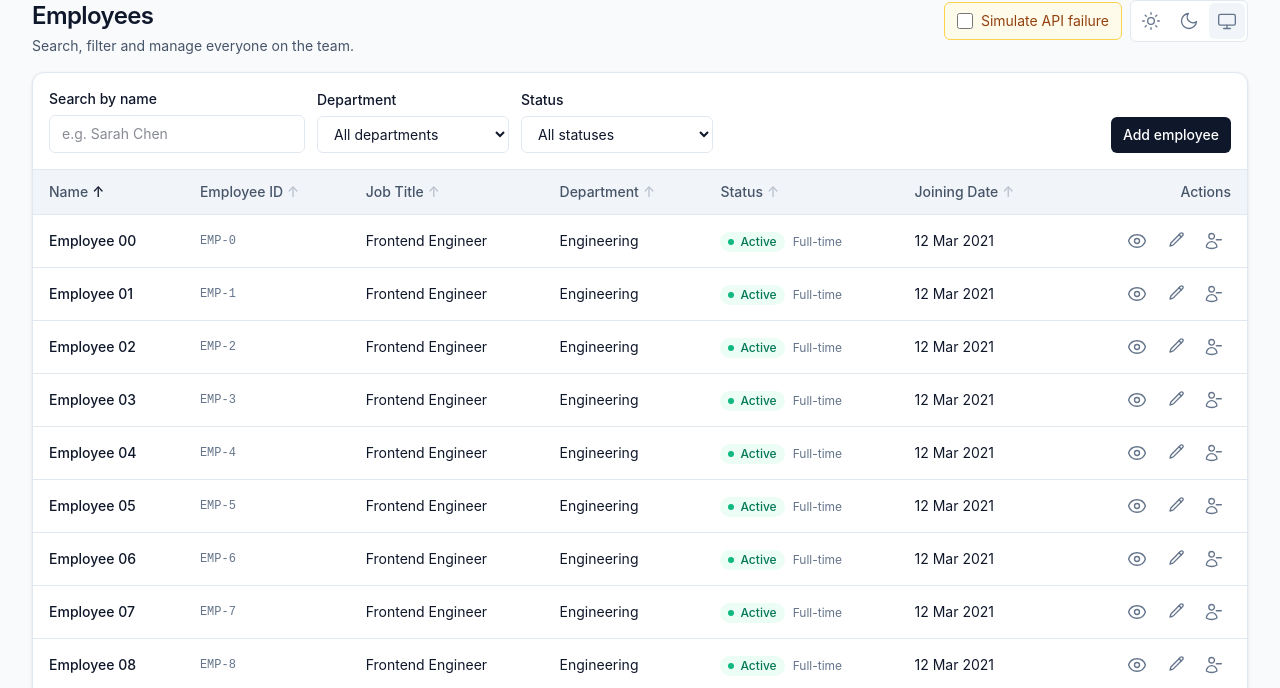
Test: a page beyond the end of the result set › never leaves the UI on an empty last page after a deactivation
This screenshot has width=1280, height=688.
Select "Active" in the dropdown labelled "Status" at (617, 134), box x1=521 y1=116 x2=713 y2=153
(page scrolled)
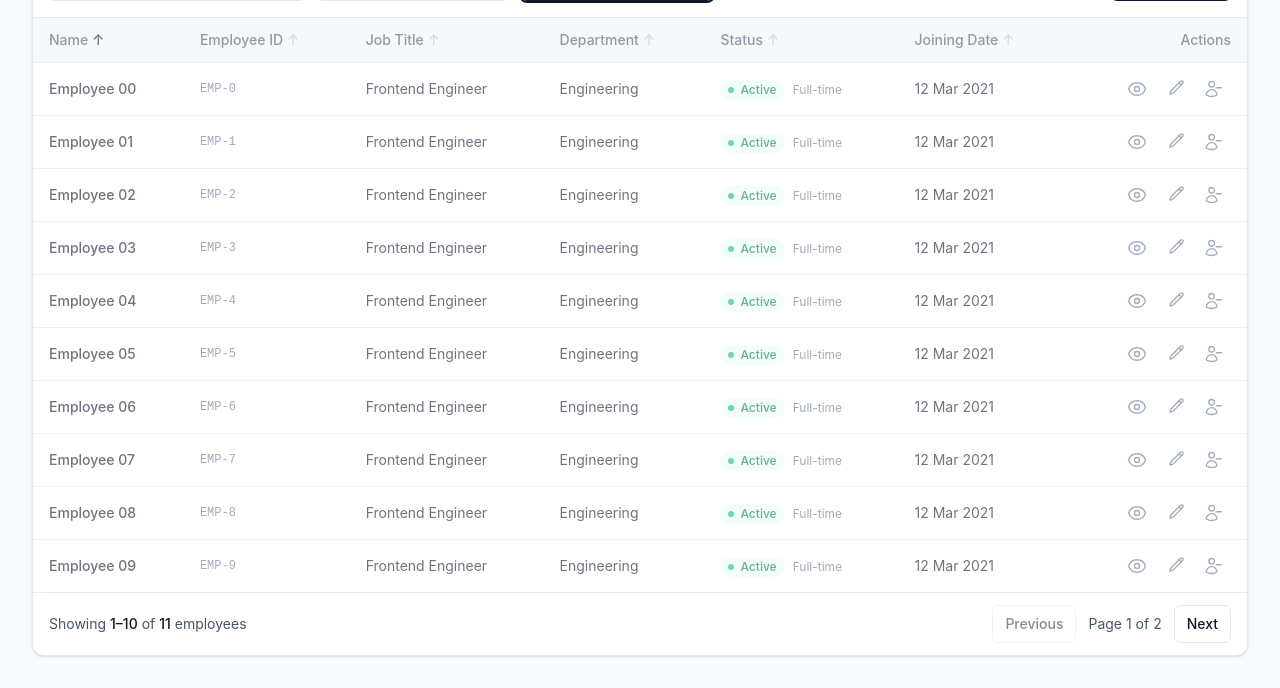
Click the button "Next" at (1202, 624), box x1=1174 y1=605 x2=1231 y2=643
(page scrolled)
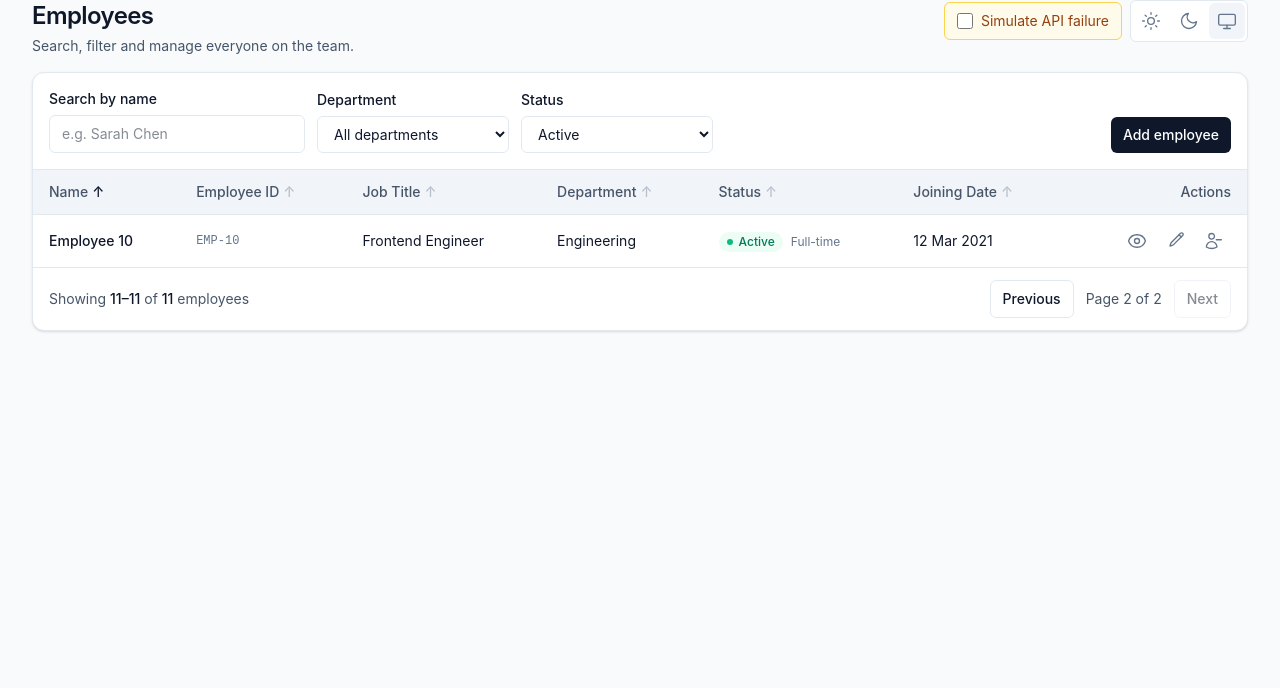
Result: the column heading "Employee 10" is shown at x1=33 y1=215 x2=180 y2=267
Click the button named "Deactivate Employee 10" at (1213, 241), box x1=1195 y1=223 x2=1231 y2=259
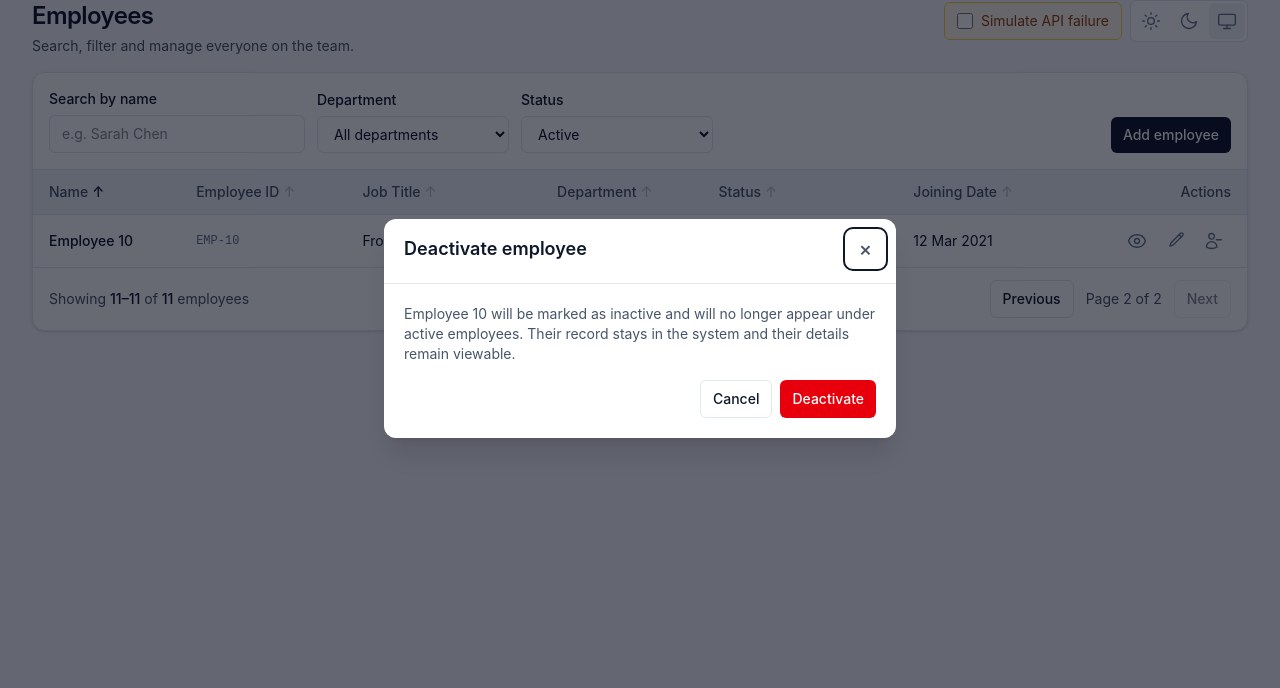
Click the button "Deactivate" at (828, 398), box x1=780 y1=380 x2=876 y2=418
(page scrolled)
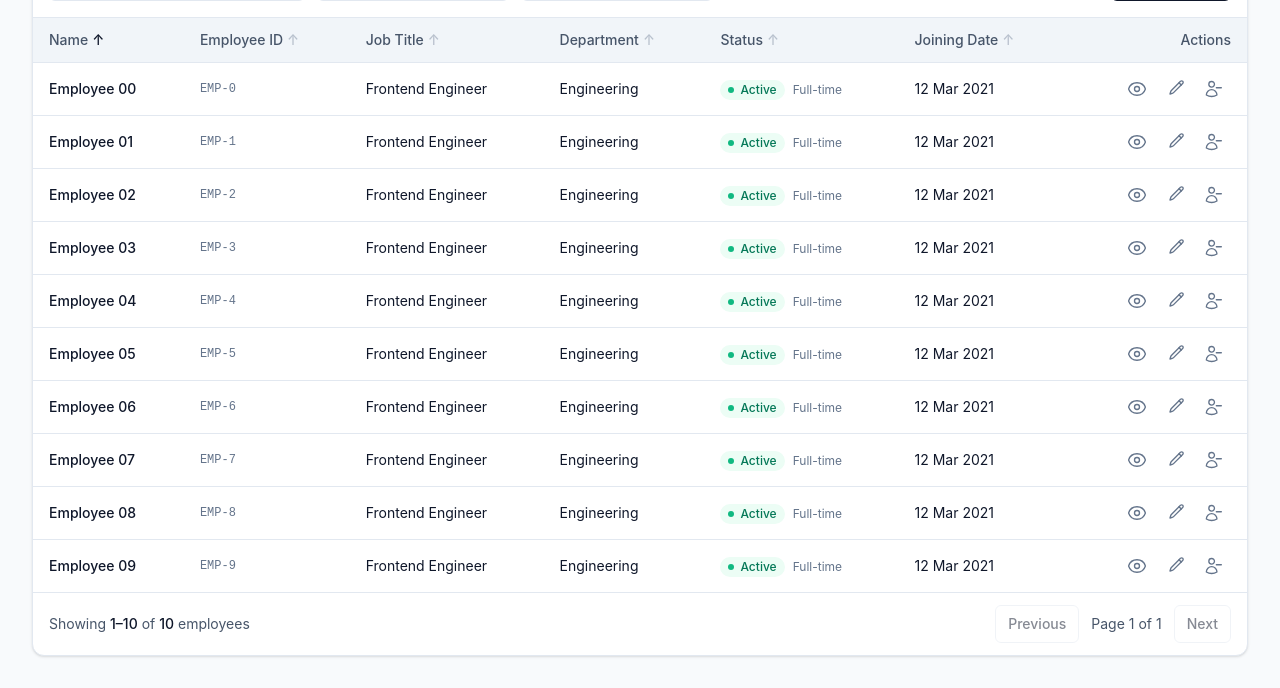
Result: the column heading "Employee 00" is shown at x1=33 y1=63 x2=184 y2=116
Result: the navigation bar named "Employee list pagination" shows "Showing 1–10 of 10 employees" at x1=33 y1=592 x2=1247 y2=655
